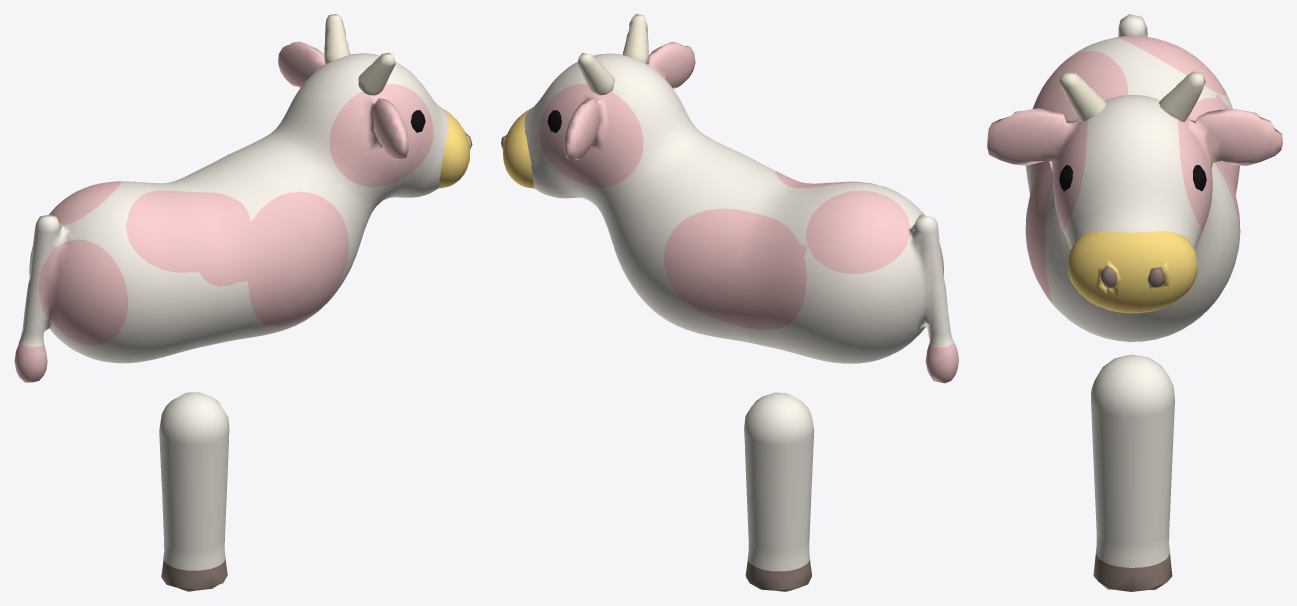
Rendered from cow_adult.glb.
3 views of the same model, side by side, from view 1: azimuth 30°, elevation 25°; view 2: azimuth 150°, elevation 25°; view 3: azimuth 270°, elevation 25° (orthographic). The views are drawn at different scales.
Visible parts, largest first — view 1: body, leg, horn, beak; view 2: body, leg, horn, beak; view 3: body, leg, beak, horn, eye.
Boxes of the visible parts, x1,y1,x2,y2 form: body: [14, 41, 448, 382]; leg: [159, 392, 229, 591]; horn: [324, 14, 395, 95]; beak: [438, 108, 472, 188]; body: [524, 42, 958, 383]; leg: [744, 392, 814, 591]; horn: [577, 14, 648, 95]; beak: [501, 108, 534, 188]; body: [987, 14, 1282, 341]; leg: [1091, 354, 1174, 591]; beak: [1068, 231, 1197, 313]; horn: [1059, 71, 1205, 121]; eye: [1059, 164, 1206, 191].
Size of the model in its own units: 2.61 by 2.84 by 1.26.
